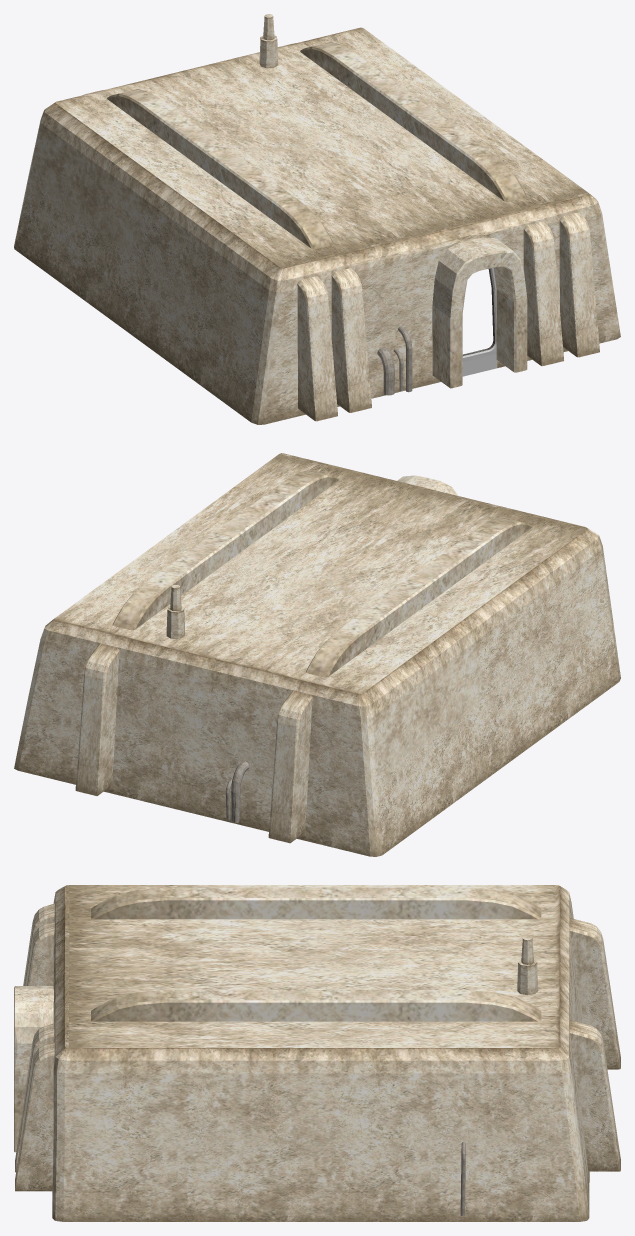
File: thm_tato_house_sml_s01_fp1_r0_mesh_l0.fbx
3 renders of one model, top to bottom at view 1: azimuth 30°, elevation 25°; view 2: azimuth 150°, elevation 25°; view 3: azimuth 270°, elevation 25°, orthographic. The views are drawn at different scales.
Visible parts, largest first — view 1: mesh_node; view 2: mesh_node; view 3: mesh_node.
Boxes of the visible parts, box(x1,y1,x2,y2) form: mesh_node: box(14, 14, 620, 424); mesh_node: box(14, 453, 620, 856); mesh_node: box(14, 885, 620, 1221).
Size of the model in its own units: 12.45 by 6.25 by 16.22.
